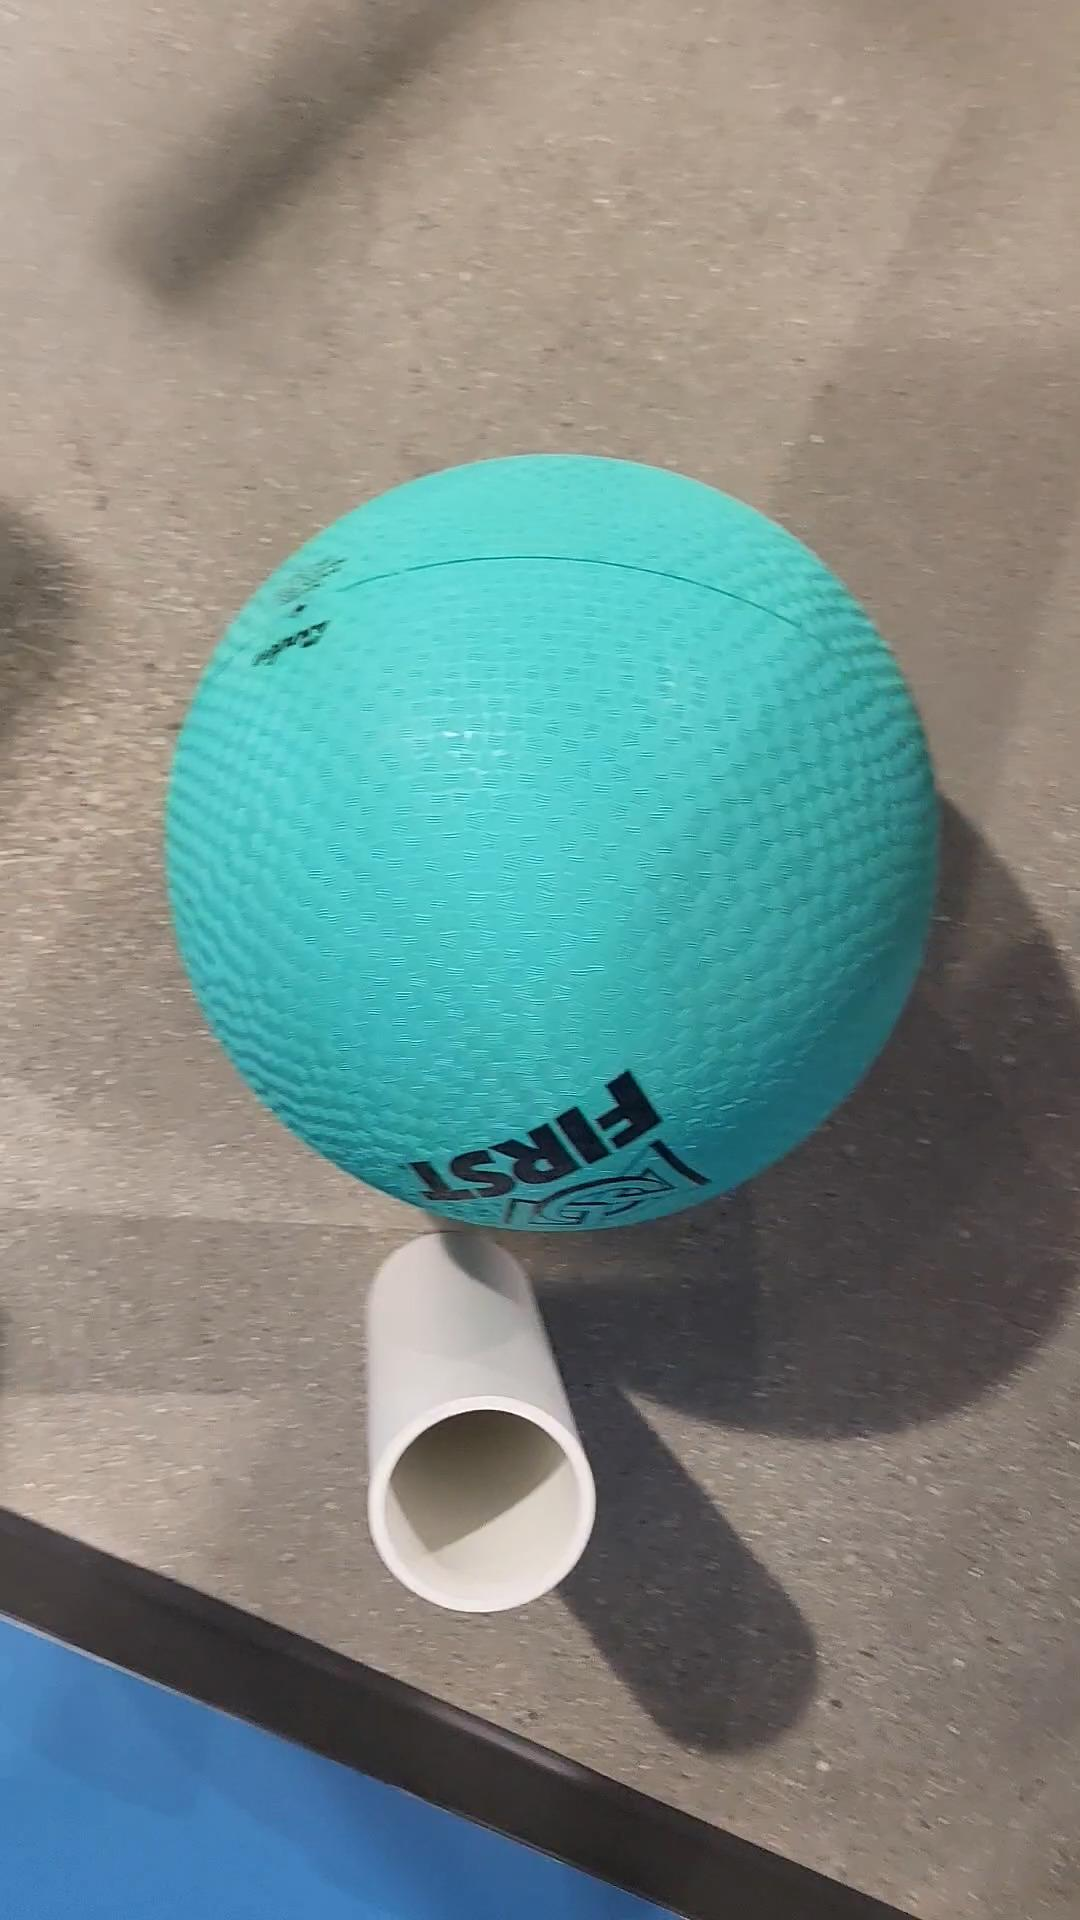algae: (170, 452, 940, 1233)
coral: (371, 1236, 600, 1619)
